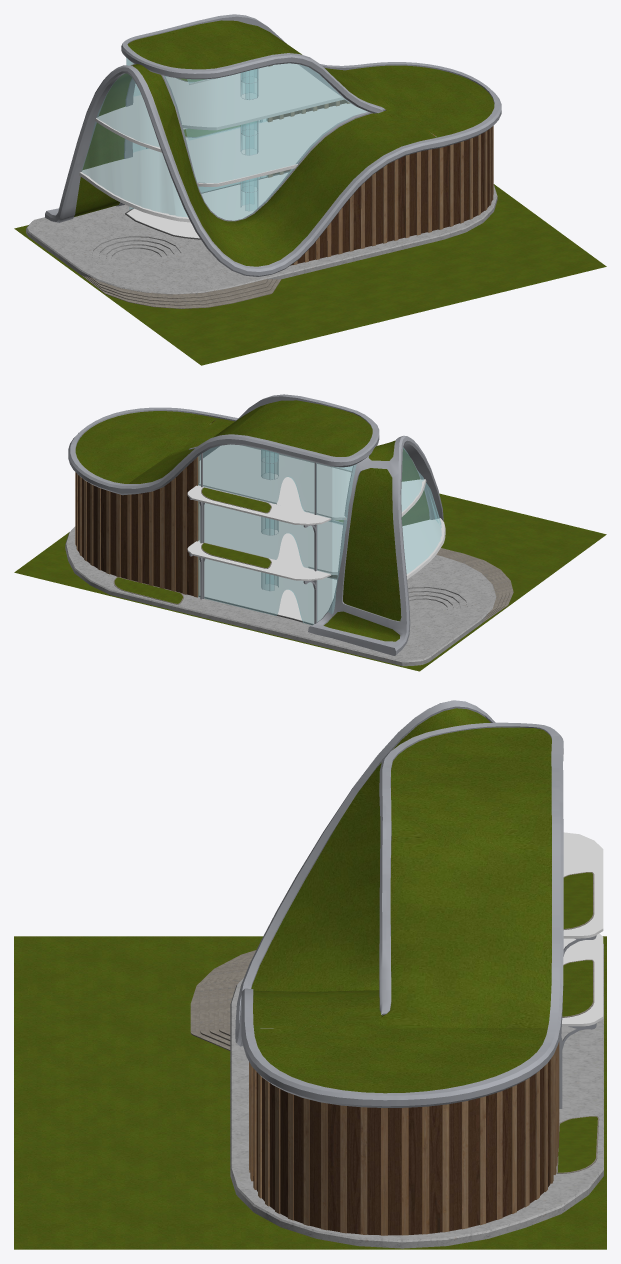
Rendered from ubs_ext_main_geo.gltf.
3 renders of one model, top to bottom at view 1: azimuth 30°, elevation 25°; view 2: azimuth 150°, elevation 25°; view 3: azimuth 270°, elevation 25°, orthographic. The views are drawn at different scales.
Visible parts, largest first — view 1: Outline_test_mesh.003, ground, Outline_test_mesh.002, Ground_floor_geo, Outline_test_mesh.004, Window_top, Outline_test_mesh.012, Outline_test_mesh.008, Vertical_wall_detail, Outline_test_mesh.009, Plane.007, Entrance_stairs (+3 smaller); view 2: Outline_test_mesh.002, Outline_test_mesh.003, Outline_test_mesh.004, Ground_floor_geo, ground, Outline_test_mesh.012, Outline_test_mesh.008, Vertical_wall_detail, Outline_test_mesh.009, Window_top, Plane.007, Entrance_stairs (+7 smaller); view 3: ground, Outline_test_mesh.003, Outline_test_mesh.002, Vertical_wall_detail, Outline_test_mesh.009, Outline_test_mesh.008, Ground_floor_geo, Entrance_stairs, Outline_test_mesh.004, Outline_test_mesh.005, Outline_test_mesh.012, Outline_test_mesh.006 (+2 smaller).
Part boxes in pixels (x1,y1,x2,y2): Outline_test_mesh.003: [45, 14, 501, 276]; ground: [14, 184, 606, 365]; Outline_test_mesh.002: [126, 57, 492, 265]; Ground_floor_geo: [26, 176, 497, 294]; Outline_test_mesh.004: [125, 63, 344, 239]; Window_top: [81, 73, 187, 217]; Outline_test_mesh.012: [133, 103, 367, 186]; Outline_test_mesh.008: [345, 65, 494, 137]; Vertical_wall_detail: [266, 65, 493, 264]; Outline_test_mesh.009: [127, 20, 292, 69]; Plane.007: [79, 148, 205, 222]; Entrance_stairs: [81, 275, 281, 308]; Outline_test_mesh.002: [76, 421, 356, 624]; Outline_test_mesh.003: [68, 394, 443, 655]; Outline_test_mesh.004: [187, 444, 351, 624]; Ground_floor_geo: [65, 526, 496, 666]; ground: [14, 493, 606, 671]; Outline_test_mesh.012: [187, 503, 342, 580]; Outline_test_mesh.008: [75, 411, 217, 483]; Vertical_wall_detail: [75, 419, 216, 597]; Outline_test_mesh.009: [230, 400, 372, 456]; Window_top: [401, 447, 441, 573]; Plane.007: [308, 518, 445, 579]; Entrance_stairs: [436, 548, 513, 622]; ground: [14, 936, 606, 1249]; Outline_test_mesh.003: [235, 700, 563, 1107]; Outline_test_mesh.002: [253, 1059, 550, 1235]; Vertical_wall_detail: [249, 887, 559, 1235]; Outline_test_mesh.009: [391, 727, 551, 843]; Outline_test_mesh.008: [254, 1023, 547, 1093]; Ground_floor_geo: [230, 944, 603, 1248]; Entrance_stairs: [190, 950, 256, 1050]; Outline_test_mesh.004: [563, 832, 603, 938]; Outline_test_mesh.005: [556, 1116, 599, 1173]; Outline_test_mesh.012: [562, 933, 603, 1026]; Outline_test_mesh.006: [562, 959, 594, 1017].
Bounding box in the file's own units: 80 × 34.34 × 64.
10 materials, 6 textured.
